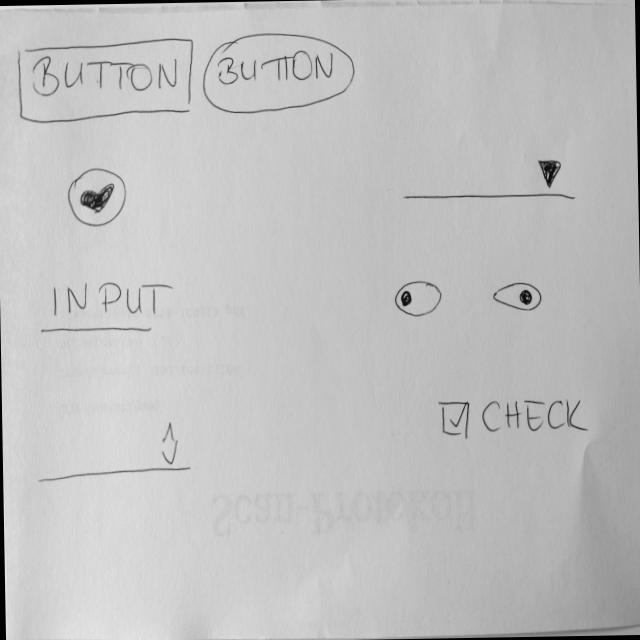button: (16, 36, 198, 127), (201, 30, 358, 118), (68, 167, 130, 231)
checkbox: (438, 391, 591, 442)
input: (38, 279, 179, 339)
number-input: (34, 415, 195, 488)
select: (403, 153, 577, 205)
toggle: (392, 277, 444, 319), (492, 280, 546, 316)
